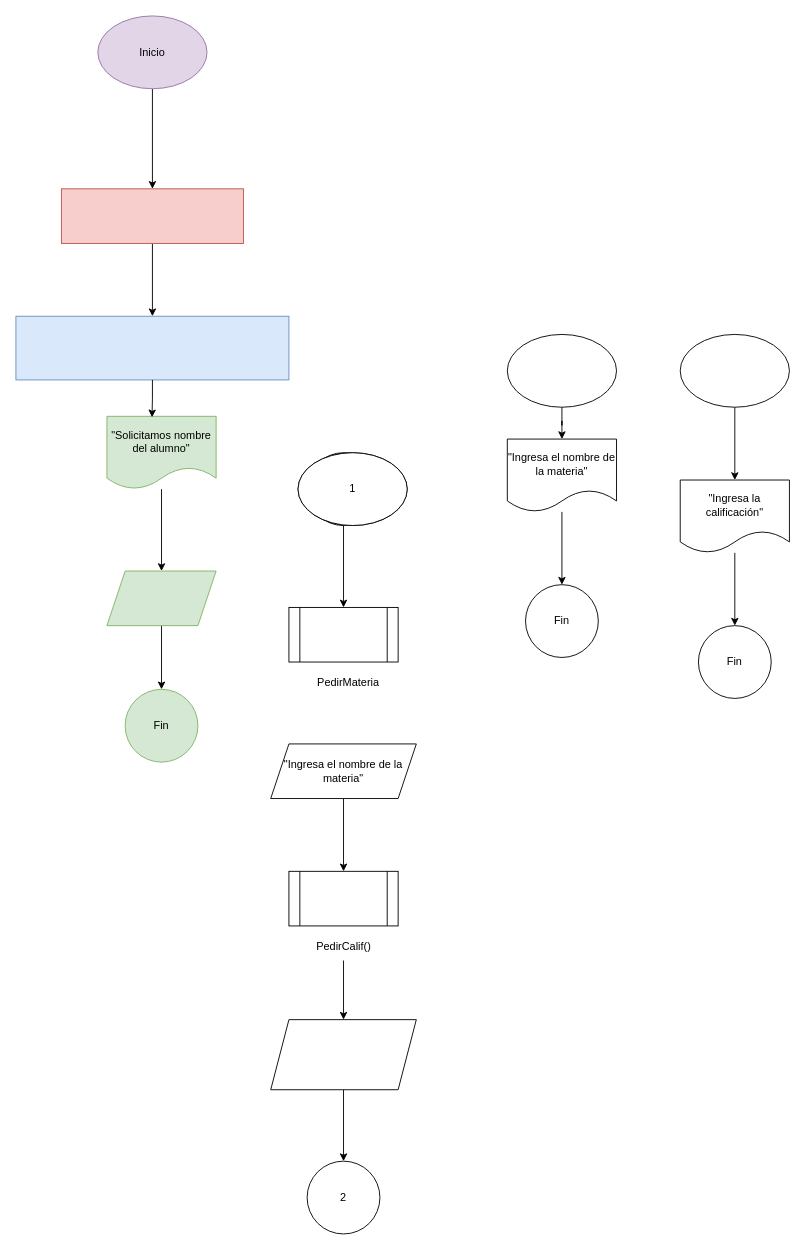
This 805x1250 diagram has some shape labels left out. The shapes that lost their labels are listed below. From the top down, each one's box as (x1, y1, x2, y2) in pixels, then its label:
(61, 188, 243, 243): calif1,calif2,calif3,calif4,prom,suma
(15, 315, 289, 380): nombre_alumno,materia1,materia2,materia3,materia4
(506, 334, 617, 407): Inicio PedirMateria()
(679, 334, 789, 407): Inicio PedirCalif()
(106, 570, 216, 626): Nombre
(270, 1019, 416, 1090): Pedir la calificación
